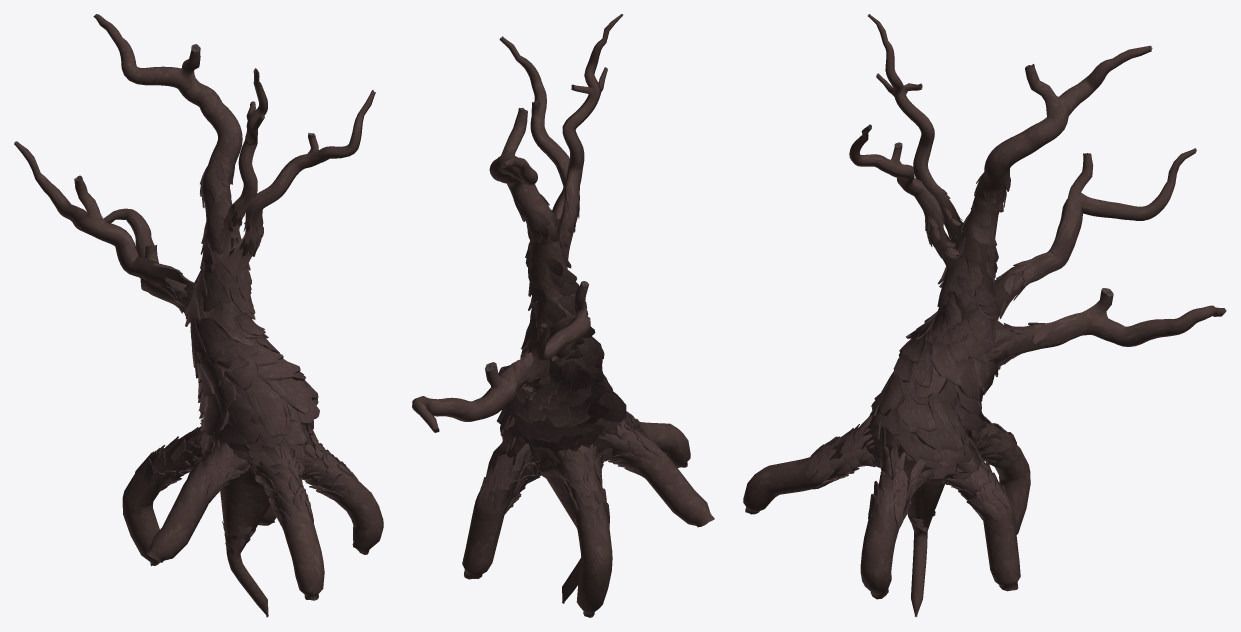
3 renders of one model, left to right at view 1: azimuth 30°, elevation 25°; view 2: azimuth 150°, elevation 25°; view 3: azimuth 270°, elevation 25°, orthographic. The views are drawn at different scales.
Parts seen in each view (by area): view 1: SM_SW_SwampTree_02_LOD0; view 2: SM_SW_SwampTree_02_LOD0; view 3: SM_SW_SwampTree_02_LOD0.
Boxes of the visible parts, left/top/right/bottom form: SM_SW_SwampTree_02_LOD0: left=14, top=14, right=383, bottom=617; SM_SW_SwampTree_02_LOD0: left=412, top=14, right=714, bottom=617; SM_SW_SwampTree_02_LOD0: left=743, top=14, right=1226, bottom=616.
Bounding box in the file's own units: 8.49 × 20.37 × 15.21.
Materials: 1 (1 with a texture image).
